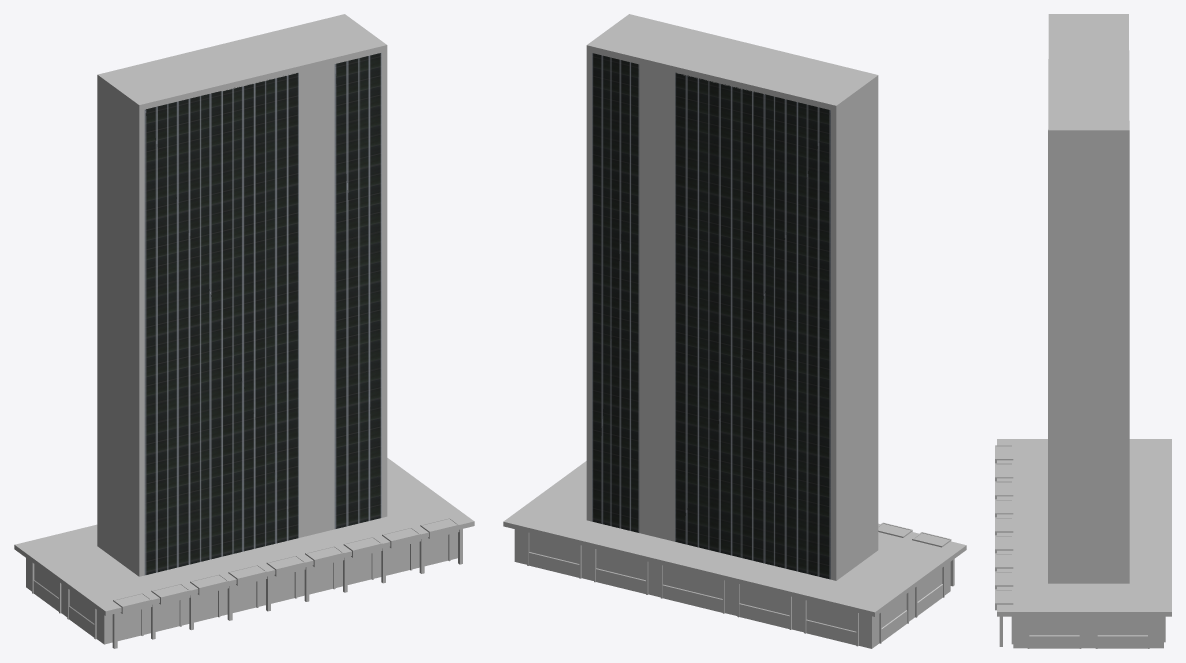
The picture shows the model from 3 angles, left to right: view 1: azimuth 30°, elevation 25°; view 2: azimuth 150°, elevation 25°; view 3: azimuth 270°, elevation 25°; orthographic projection. The views are drawn at different scales.
Visible parts, largest first — view 1: BC-030_LOD, BC-030; view 2: BC-030_LOD, BC-030; view 3: BC-030, BC-030_LOD.
Boxes of the visible parts, x1,y1,x2,y2 form: BC-030_LOD: (14,14,472,640); BC-030: (14,14,474,648); BC-030_LOD: (503,14,965,615); BC-030: (503,14,966,648); BC-030: (995,14,1171,648); BC-030_LOD: (997,14,1171,616).
Size of what is drawn, in the model's own units: 74.48 by 98.93 by 32.18.
